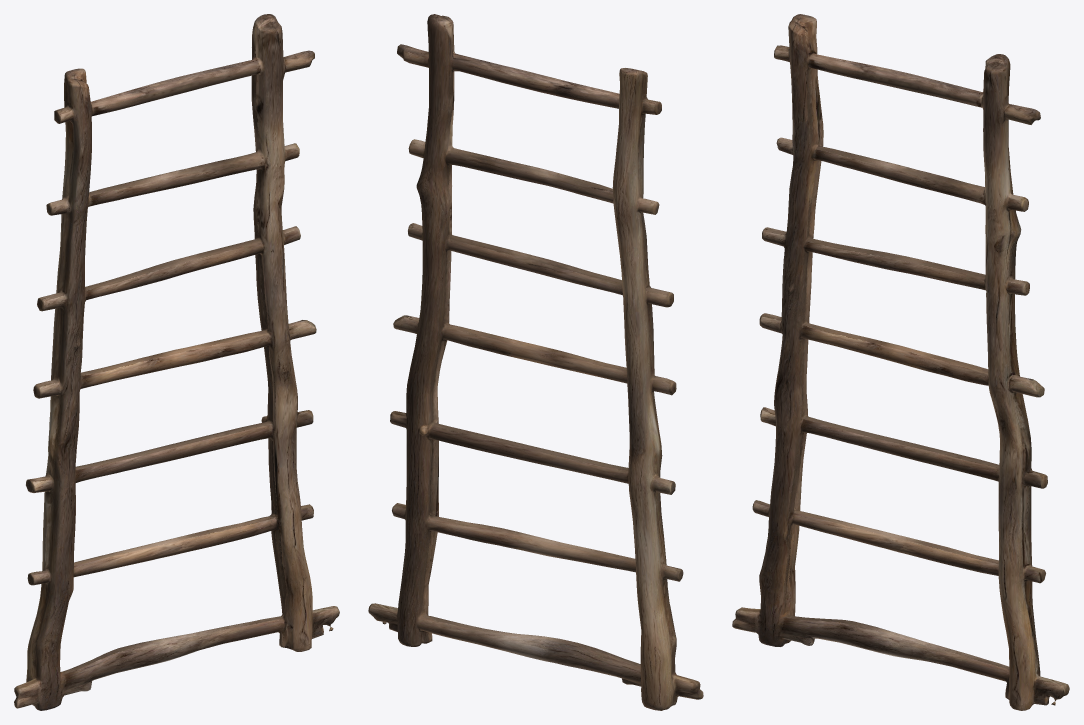
The model's file is leiter.glb.
3 views of the same model, side by side, from view 1: azimuth 30°, elevation 25°; view 2: azimuth 150°, elevation 25°; view 3: azimuth 330°, elevation 25° (orthographic).
Bounding box in the file's own units: 1.07 × 2 × 0.12.
Materials: 1 (1 with a texture image).
